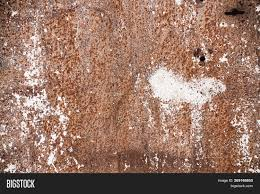rust: (1, 2, 260, 169)
